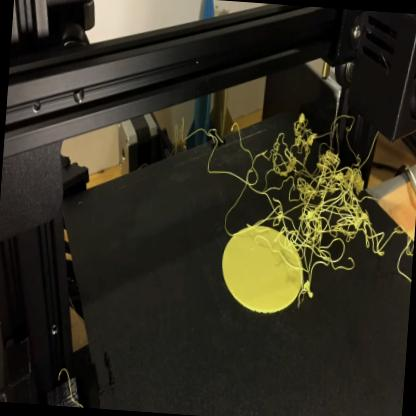fail: (254, 108, 416, 307)
